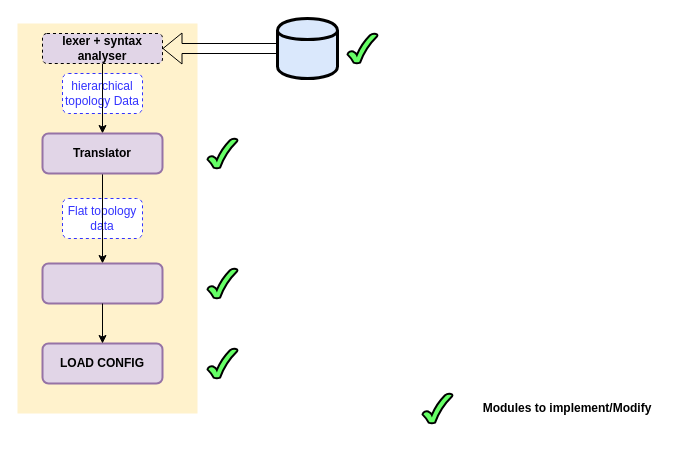
The diagram is 679 pixels wide and 469 high, and some of its shapes have lost their labels. The box of each missing label's shape, as (x1, y1, x2, y2) in pixels:
Domain/Module specific validator: (41, 262, 163, 304)
XML SCHEMA: (276, 16, 338, 80)
